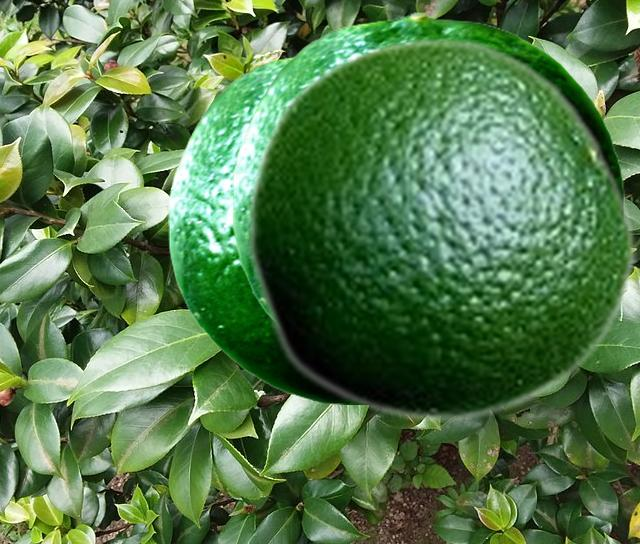calamansi: (244, 35, 636, 424), (232, 11, 623, 313), (168, 54, 344, 403)
